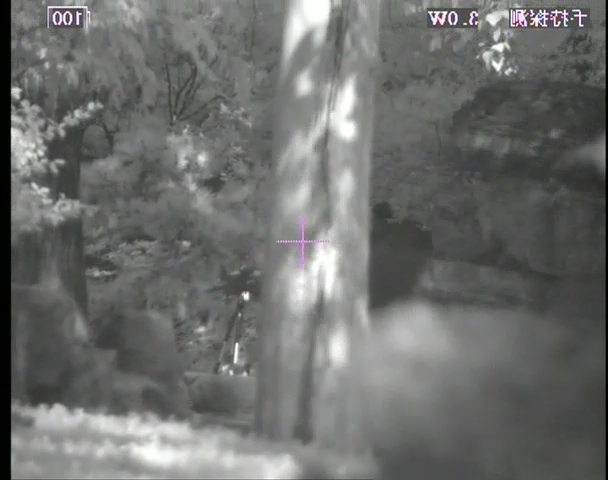my: (241, 290, 251, 302)
